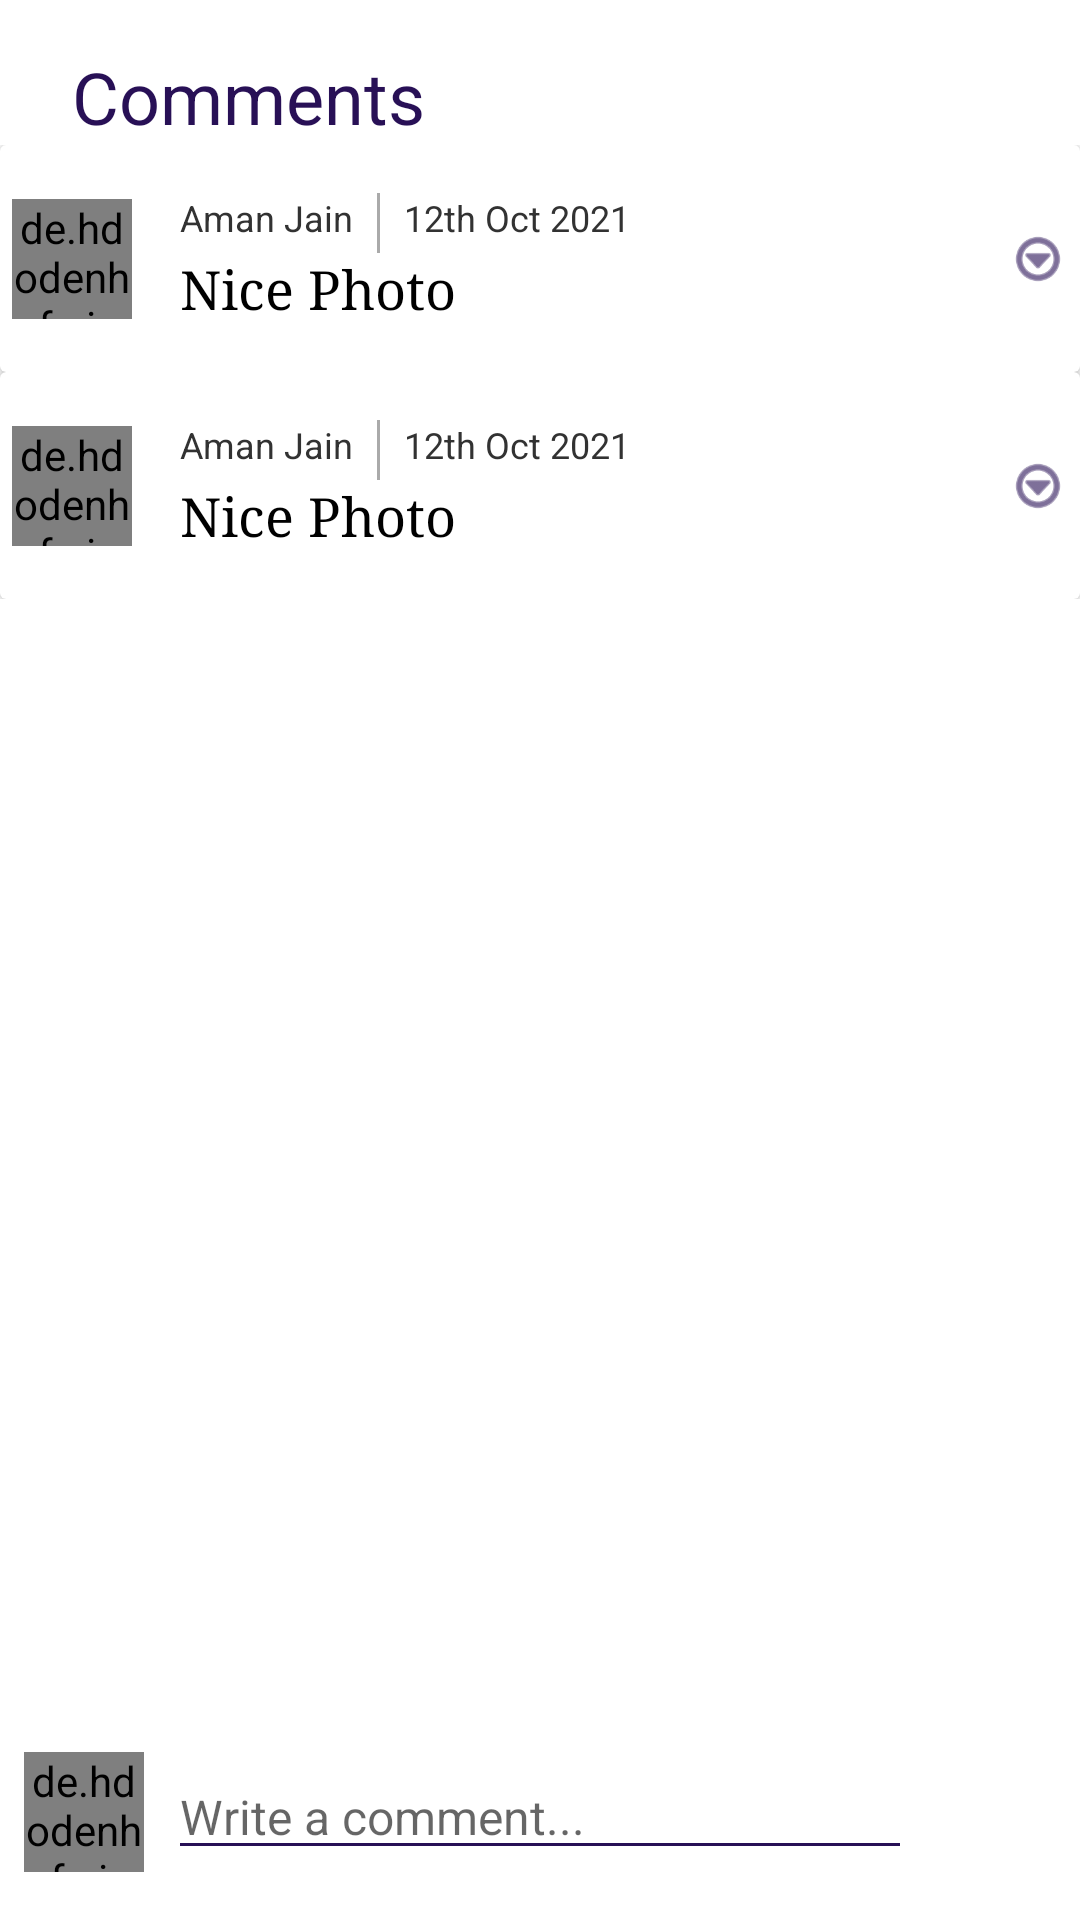

Icon click points for this 1080px×1920px phone screenshot, format (x,y):
more: (1038,259), (1038,486)
